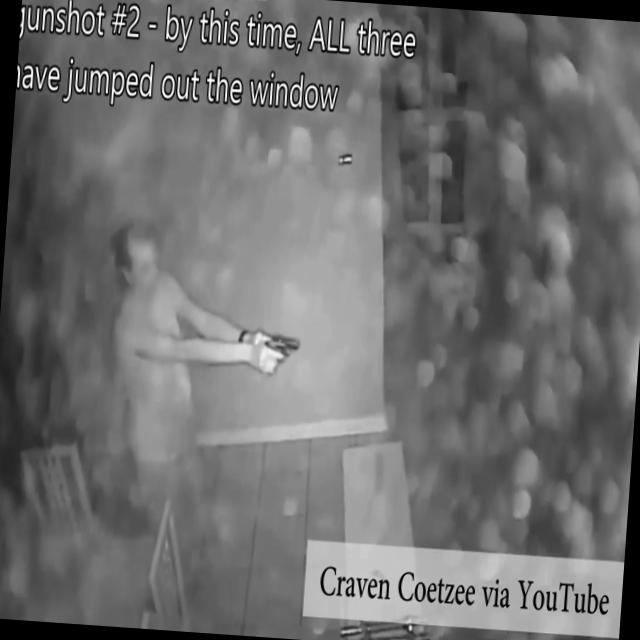gun: (246, 325, 303, 382)
person with a gun: (101, 218, 310, 429)
